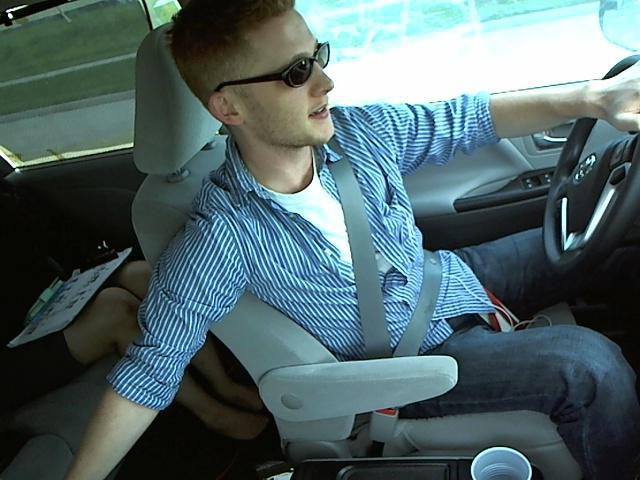c5 - Reaching Behind: (101, 3, 636, 408)
